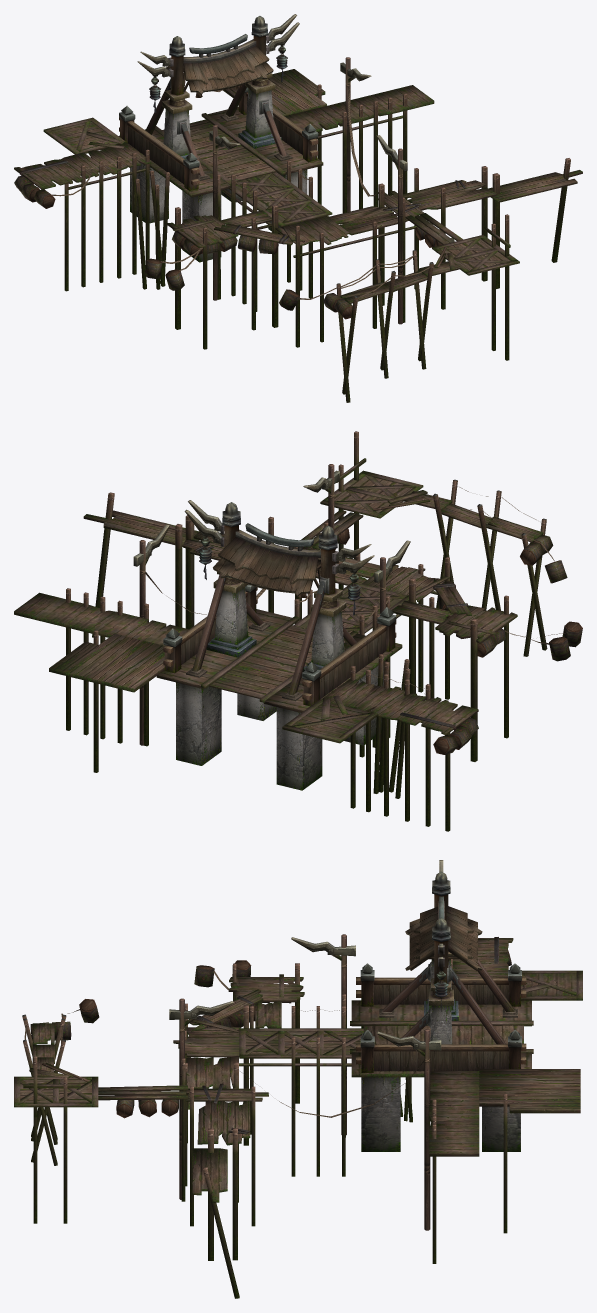
3 views of the same model, one above another, from view 1: azimuth 30°, elevation 25°; view 2: azimuth 150°, elevation 25°; view 3: azimuth 270°, elevation 25° (orthographic). The views are drawn at different scales.
Visible parts, largest first — view 1: ty_mt_01_01, ty_mt_01; view 2: ty_mt_01_01, ty_mt_01; view 3: ty_mt_01_01, ty_mt_01.
Boxes of the visible parts, bbox=[...] form: ty_mt_01_01: bbox=[14, 54, 582, 402]; ty_mt_01: bbox=[119, 14, 407, 262]; ty_mt_01_01: bbox=[14, 431, 582, 831]; ty_mt_01: bbox=[133, 470, 410, 790]; ty_mt_01_01: bbox=[14, 934, 582, 1298]; ty_mt_01: bbox=[169, 860, 526, 1151].
Bounding box in the file's own units: 6394 × 3246 × 6215.
